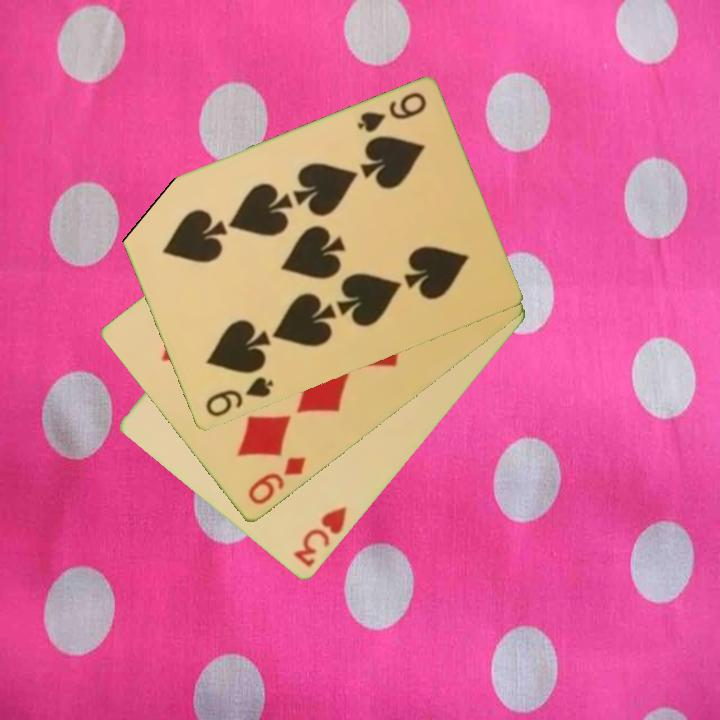3h: (289, 503, 350, 571)
9d: (244, 453, 309, 509)
9s: (353, 89, 430, 136), (201, 373, 276, 421)
